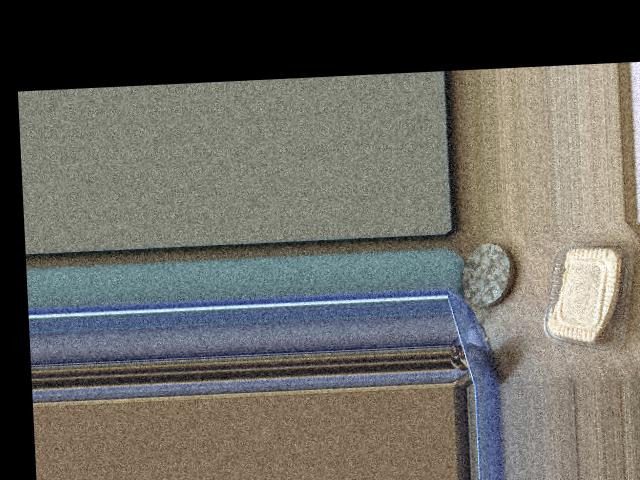cheese: (532, 225, 640, 344)
